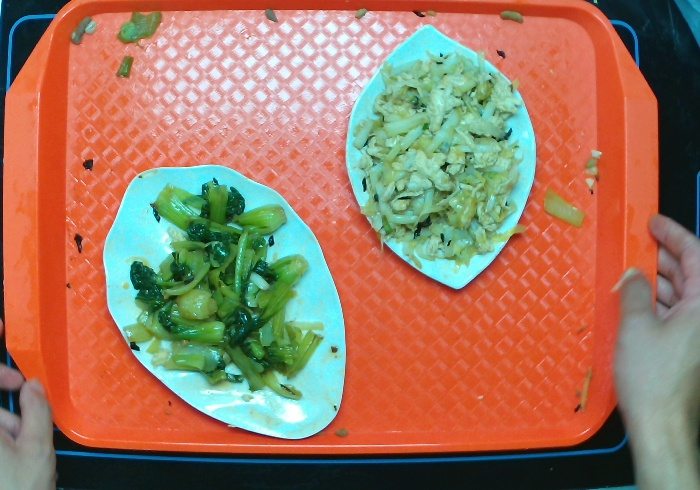RJxy-Bai_Ye_Pan: (101, 162, 348, 441)
RJxy-Da_Du_Pan: (343, 22, 538, 291)
